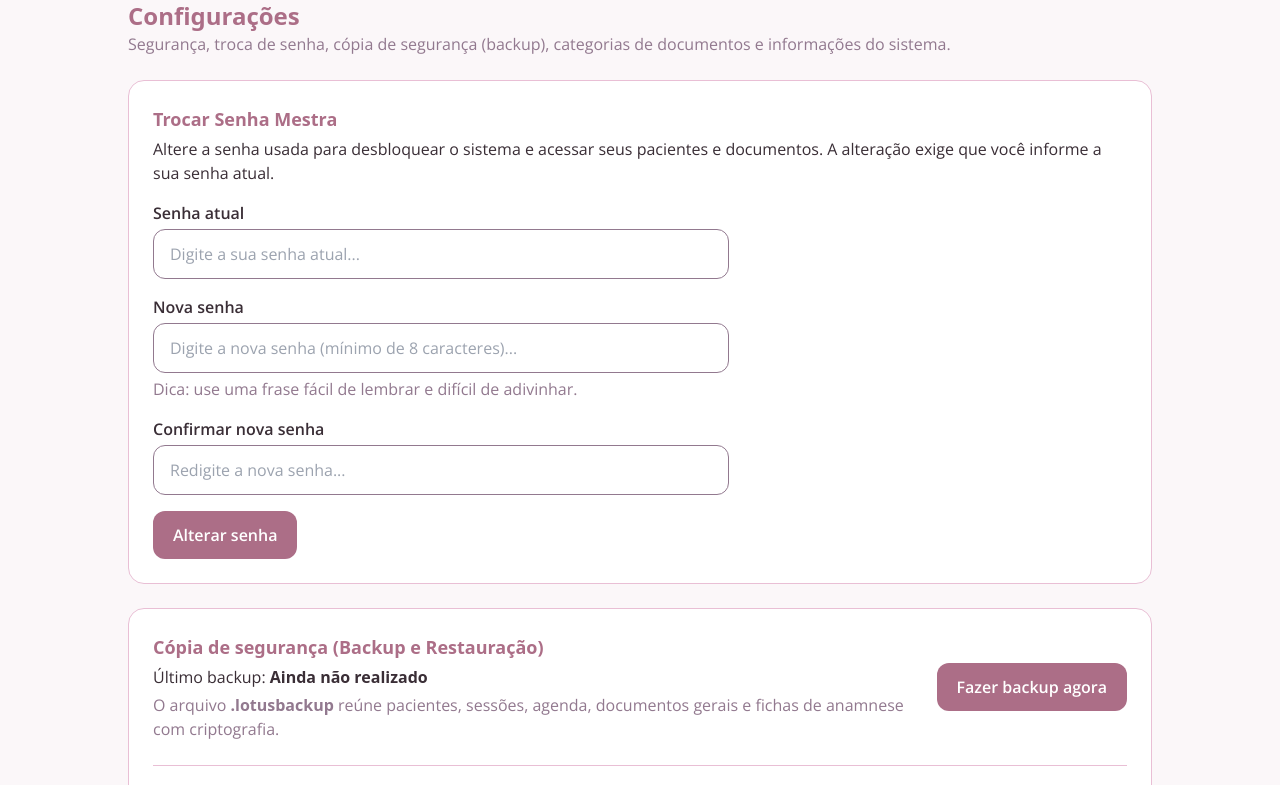
Test: Tela T10 — Configurações: Mensagem de aniversário (F5-T3 — RN32) › preenche caminho padrão na pasta Downloads ao abrir modal de backup e permite selecionar pasta nativa pelo botão Escolher pasta...
The image size is (1280, 785).
Click the button "Fazer backup agora" at (1032, 687), box [936,663,1127,711]
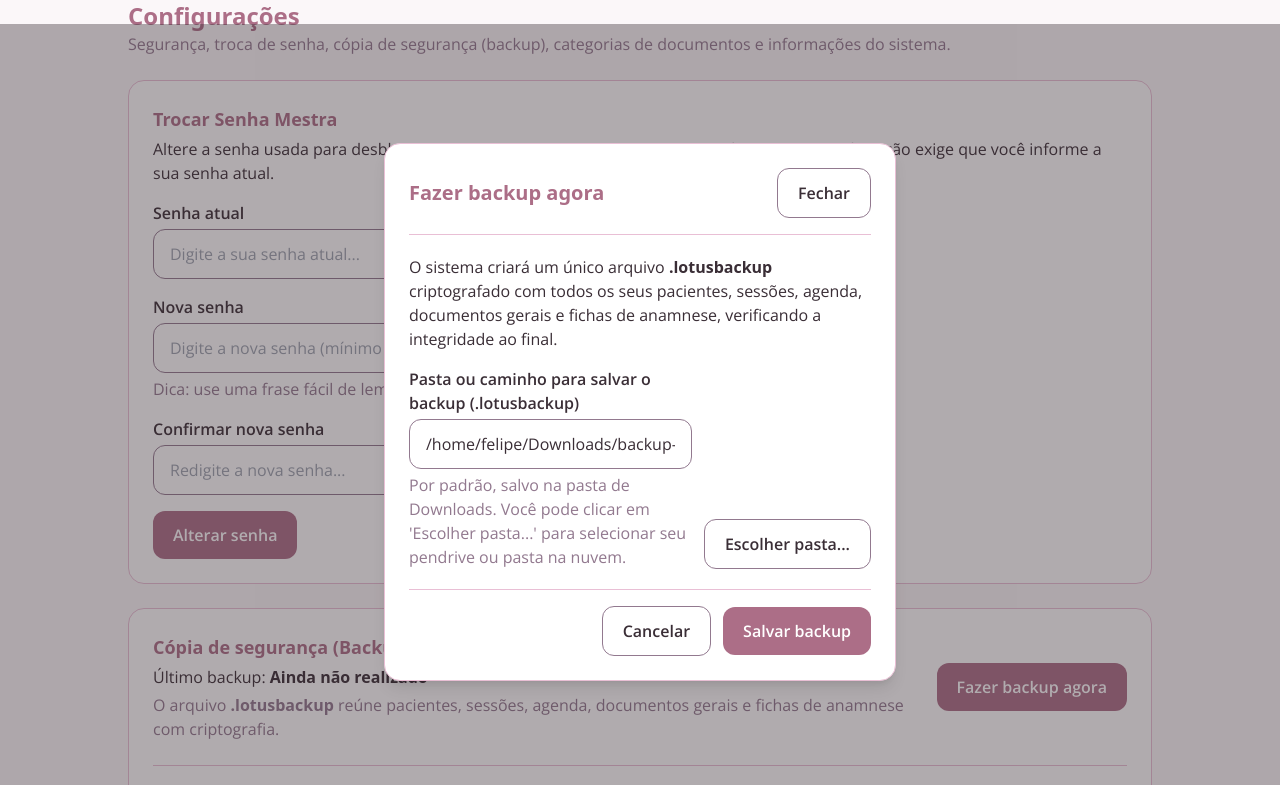
Result: the field with test id "campo-caminho-destino-backup-config" holds "/home/felipe/Downloads/backup-pacientes-2026-11-06-2130.lotusbackup" at [409,419,692,469]
Click the button with test id "botao-escolher-pasta-backup-config" at (787, 544), box [704,519,871,569]
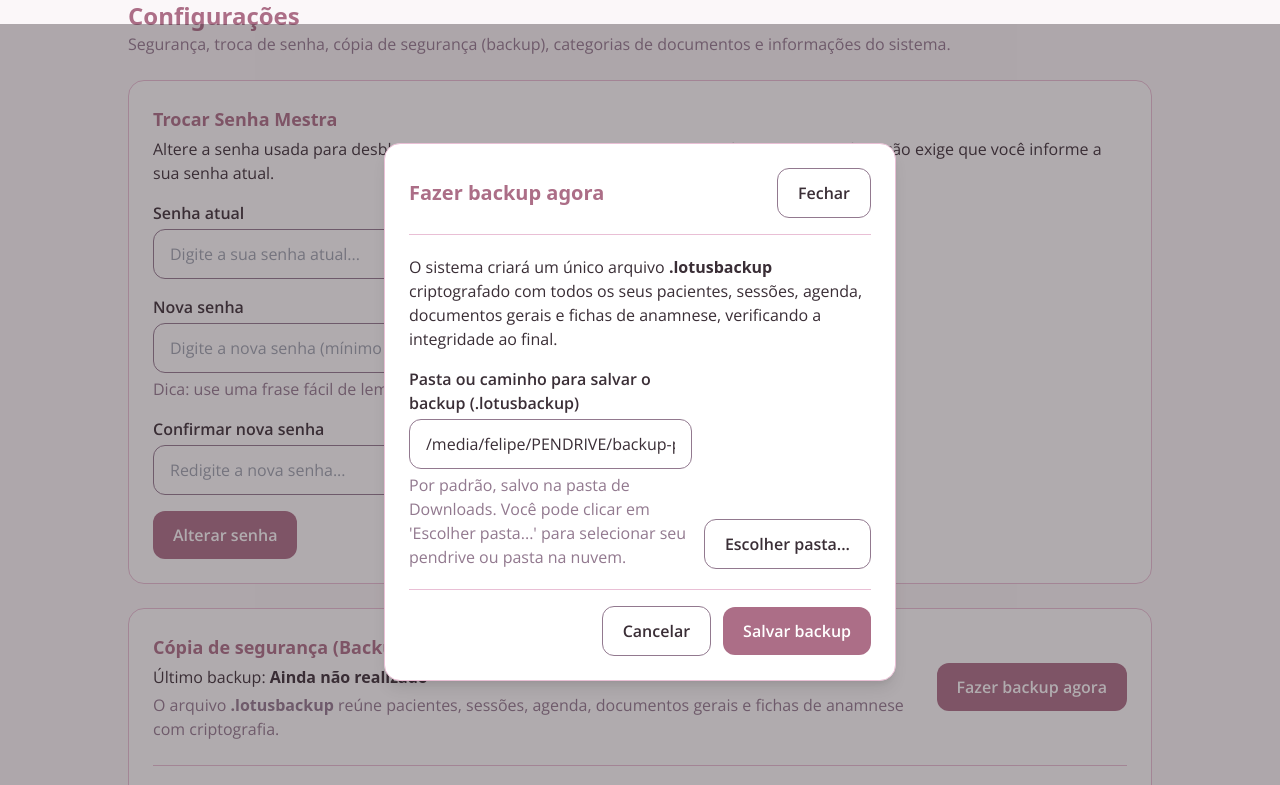
Result: the field with test id "campo-caminho-destino-backup-config" holds "/media/felipe/PENDRIVE/backup-pacientes-2026-11-06-2130.lotusbackup" at [409,419,692,469]
